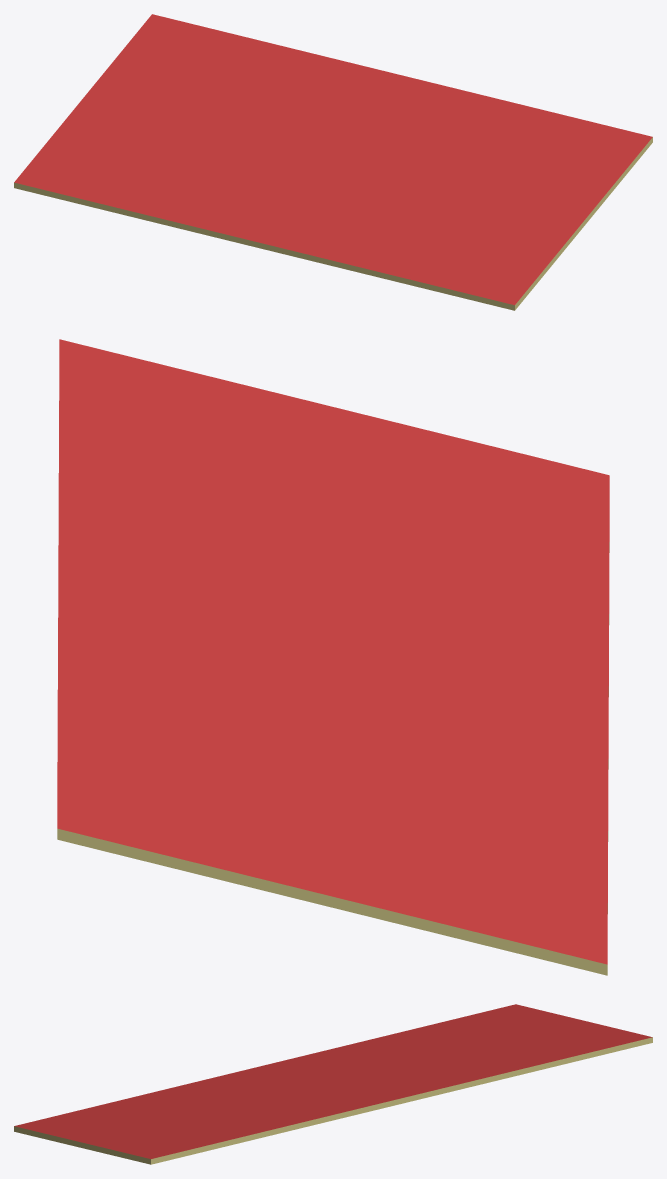
3 views of the same model, one above another, from view 1: azimuth 30°, elevation 25°; view 2: azimuth 150°, elevation 25°; view 3: azimuth 270°, elevation 25° (orthographic). The views are drawn at different scales.
Bounding box in the file's own units: 8.59 × 10.42 × 1.32.
